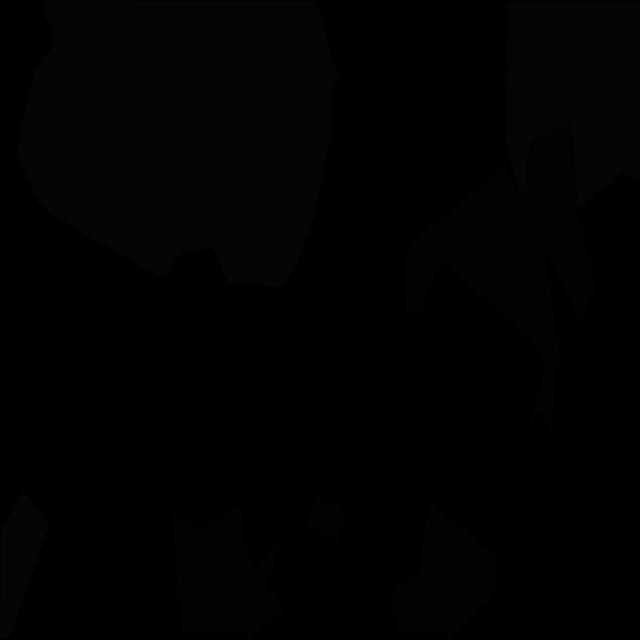cardboard: (402, 121, 596, 437), (171, 502, 286, 637), (391, 503, 493, 637), (307, 498, 343, 541)
soft_plastic: (16, 0, 339, 287), (505, 1, 640, 209), (0, 492, 50, 639)
